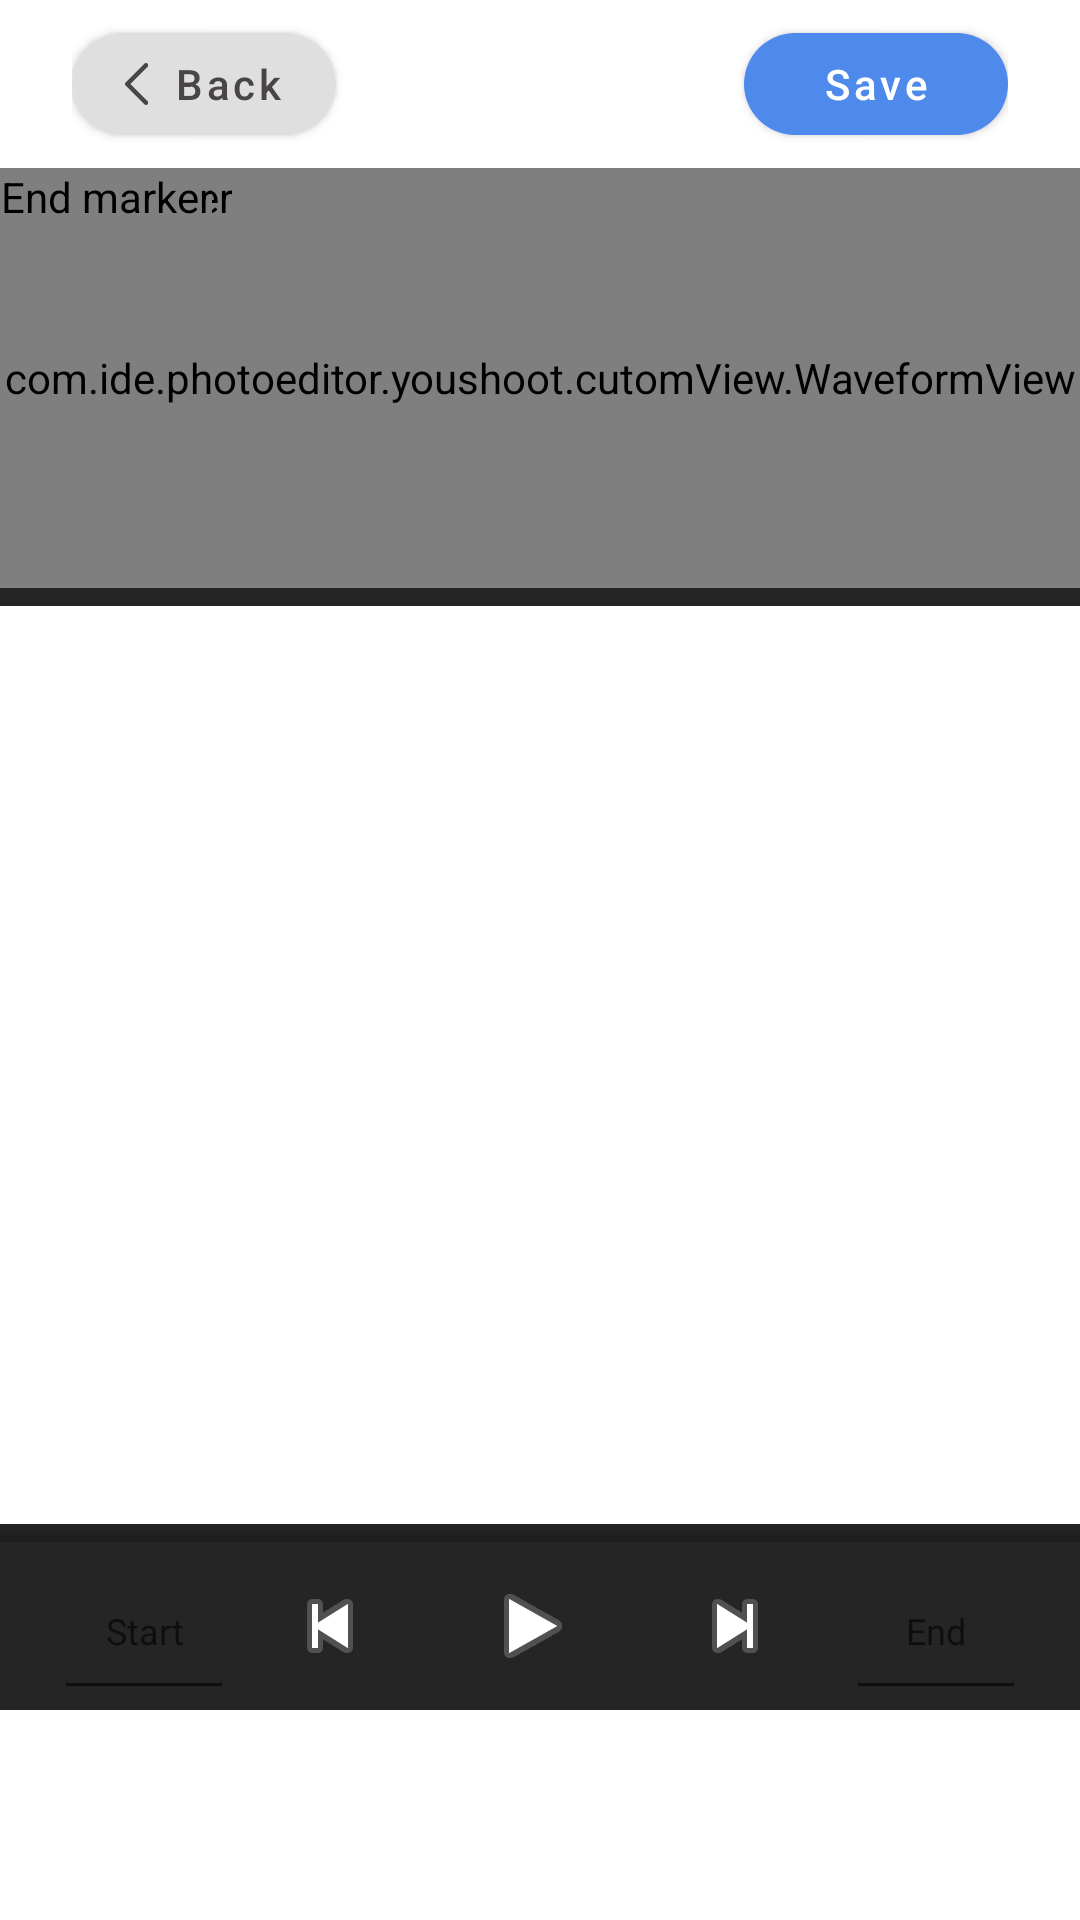

Icons on this 1080 × 1920 Android screen, each with the point to tap as (x,y):
Fast forward: (735,1626)
Play: (533,1626)
Rewind: (330,1626)
